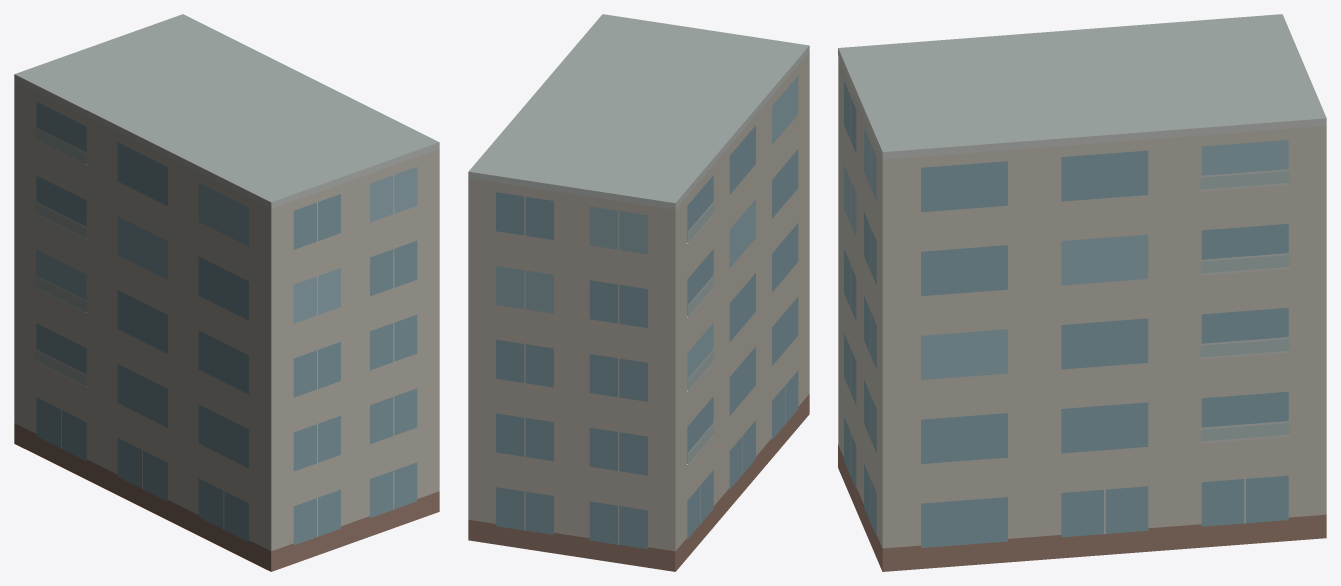
Rendered from survey-upis-32881873.glb.
3 views of the same model, side by side, from view 1: azimuth 30°, elevation 25°; view 2: azimuth 150°, elevation 25°; view 3: azimuth 270°, elevation 25° (orthographic). The views are drawn at different scales.
Visible parts, largest first — view 1: survey-upis-32881873.tmp; view 2: survey-upis-32881873.tmp; view 3: survey-upis-32881873.tmp.
Boxes of the visible parts, box(x1,y1,x2,y2) form: survey-upis-32881873.tmp: box(14, 14, 439, 571); survey-upis-32881873.tmp: box(468, 14, 809, 571); survey-upis-32881873.tmp: box(838, 14, 1326, 571).
Bounding box in the file's own units: 9.75 × 13.8 × 14.57.
